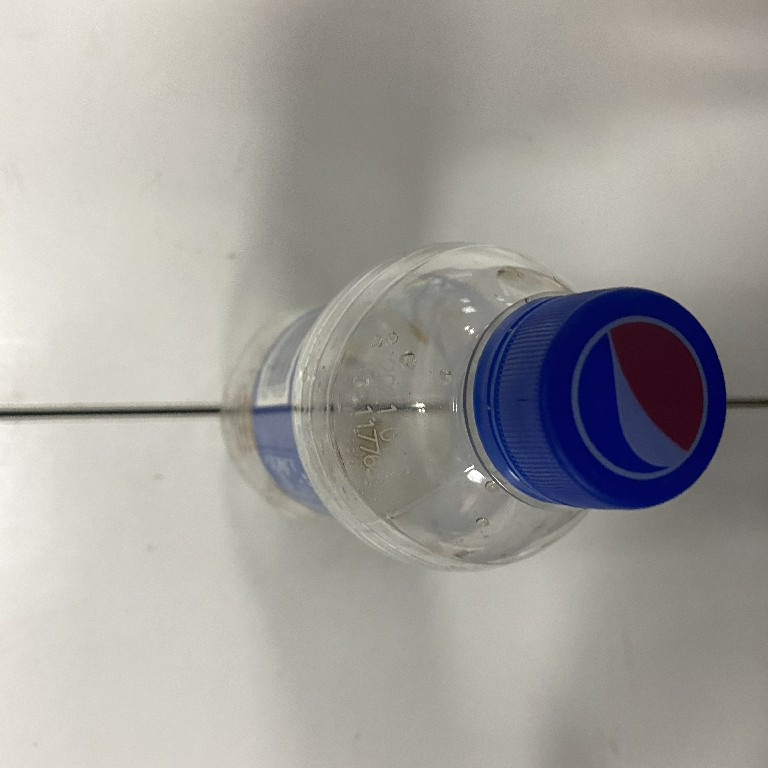bottle: (215, 236, 730, 577)
